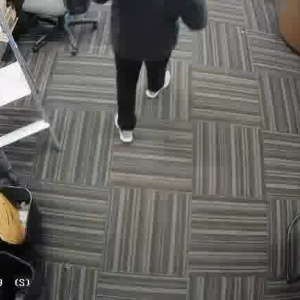person: (100, 0, 197, 138)
